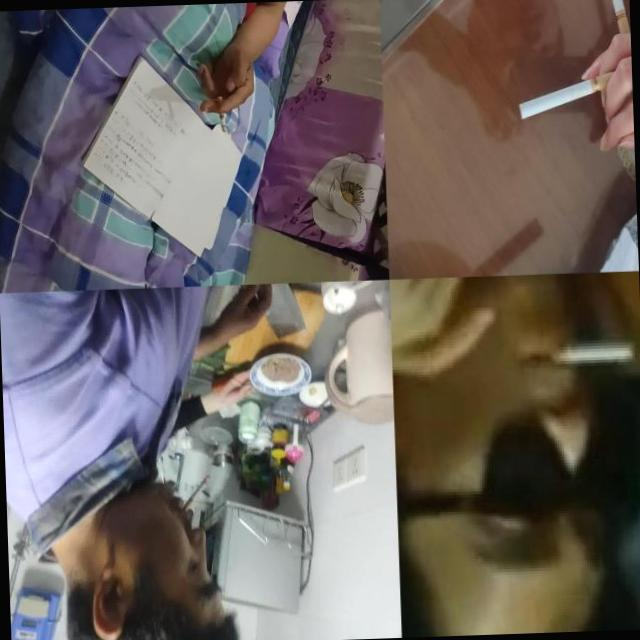cigarette: (516, 66, 622, 120), (540, 336, 636, 364), (596, 0, 630, 49), (182, 475, 210, 512), (216, 95, 226, 132)
